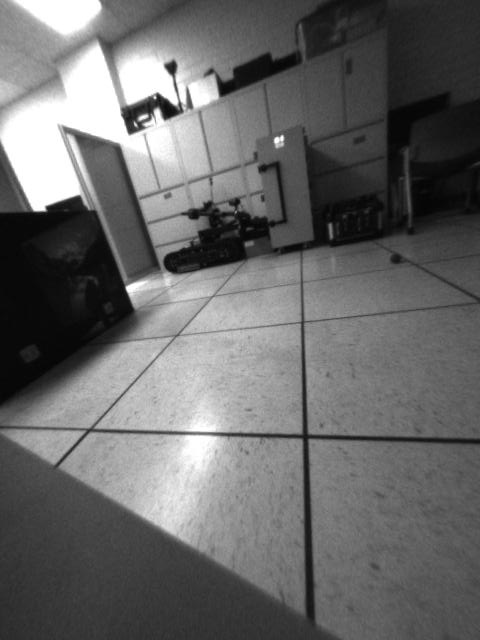dogtoy: (375, 246, 411, 269)
